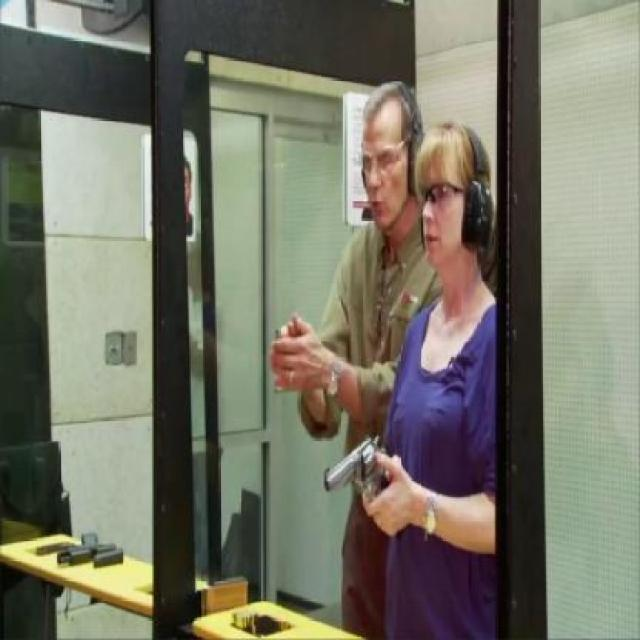gun: (323, 432, 389, 520)
